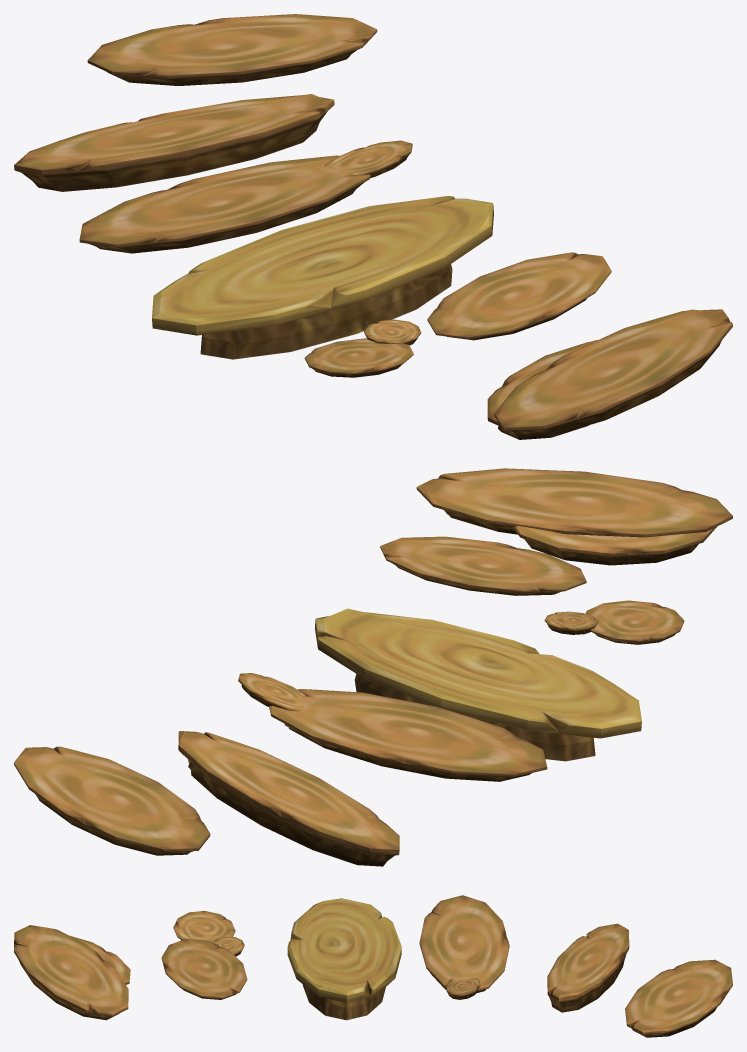
The model's file is path.glb.
3 views of the same model, one above another, from view 1: azimuth 30°, elevation 25°; view 2: azimuth 150°, elevation 25°; view 3: azimuth 270°, elevation 25° (orthographic). The views are drawn at different scales.
Parts seen in each view (by area): view 1: table_woodHouse_0.001, chair.001_woodHouse_0.008, chair.001_woodHouse_0.002, chair.001_woodHouse_0.003, chair.001_woodHouse_0.004, chair.001_woodHouse_0.001, chair.001_woodHouse_0.005, chair.001_woodHouse_0.011, chair.001_woodHouse_0.010, chair.001_woodHouse_0.006; view 2: table_woodHouse_0.001, chair.001_woodHouse_0.002, chair.001_woodHouse_0.003, chair.001_woodHouse_0.008, chair.001_woodHouse_0.004, chair.001_woodHouse_0.001, chair.001_woodHouse_0.010, chair.001_woodHouse_0.005, chair.001_woodHouse_0.011, chair.001_woodHouse_0.006; view 3: table_woodHouse_0.001, chair.001_woodHouse_0.002, chair.001_woodHouse_0.003, chair.001_woodHouse_0.004, chair.001_woodHouse_0.008, chair.001_woodHouse_0.001, chair.001_woodHouse_0.005, chair.001_woodHouse_0.010, chair.001_woodHouse_0.011, chair.001_woodHouse_0.006.
Boxes of the visible parts, <box> form: table_woodHouse_0.001: <box>152,196,493,359</box>; chair.001_woodHouse_0.008: <box>14,94,334,191</box>; chair.001_woodHouse_0.002: <box>494,309,732,436</box>; chair.001_woodHouse_0.003: <box>79,155,370,253</box>; chair.001_woodHouse_0.004: <box>87,14,377,85</box>; chair.001_woodHouse_0.001: <box>427,252,611,340</box>; chair.001_woodHouse_0.005: <box>304,338,413,377</box>; chair.001_woodHouse_0.011: <box>324,140,412,177</box>; chair.001_woodHouse_0.010: <box>487,340,597,439</box>; chair.001_woodHouse_0.006: <box>364,319,421,345</box>; table_woodHouse_0.001: <box>315,608,641,761</box>; chair.001_woodHouse_0.002: <box>416,468,732,537</box>; chair.001_woodHouse_0.003: <box>269,689,547,781</box>; chair.001_woodHouse_0.008: <box>178,731,399,866</box>; chair.001_woodHouse_0.004: <box>14,746,210,855</box>; chair.001_woodHouse_0.001: <box>380,536,586,595</box>; chair.001_woodHouse_0.010: <box>512,525,716,565</box>; chair.001_woodHouse_0.005: <box>585,600,684,644</box>; chair.001_woodHouse_0.011: <box>238,673,305,711</box>; chair.001_woodHouse_0.006: <box>544,611,598,634</box>; table_woodHouse_0.001: <box>287,898,401,1020</box>; chair.001_woodHouse_0.002: <box>14,925,128,1020</box>; chair.001_woodHouse_0.003: <box>419,895,509,993</box>; chair.001_woodHouse_0.004: <box>625,959,732,1037</box>; chair.001_woodHouse_0.008: <box>547,923,629,1012</box>; chair.001_woodHouse_0.001: <box>161,939,247,999</box>; chair.001_woodHouse_0.005: <box>173,911,235,942</box>; chair.001_woodHouse_0.010: <box>70,936,130,984</box>; chair.001_woodHouse_0.011: <box>446,977,480,999</box>; chair.001_woodHouse_0.006: <box>212,936,244,956</box>.
Bounding box in the file's own units: 2.04 × 0.3709 × 4.14.
10 materials, 10 textured.
